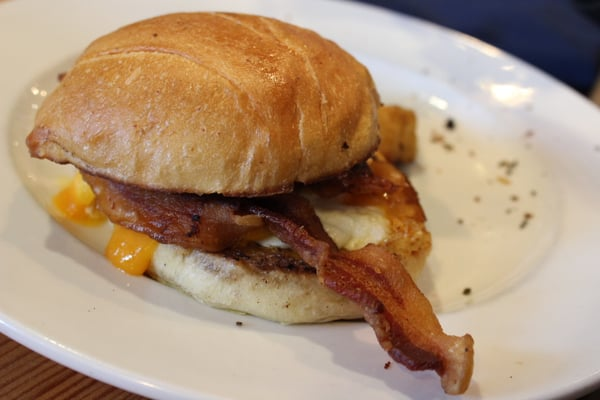soup: (25, 8, 484, 383)
